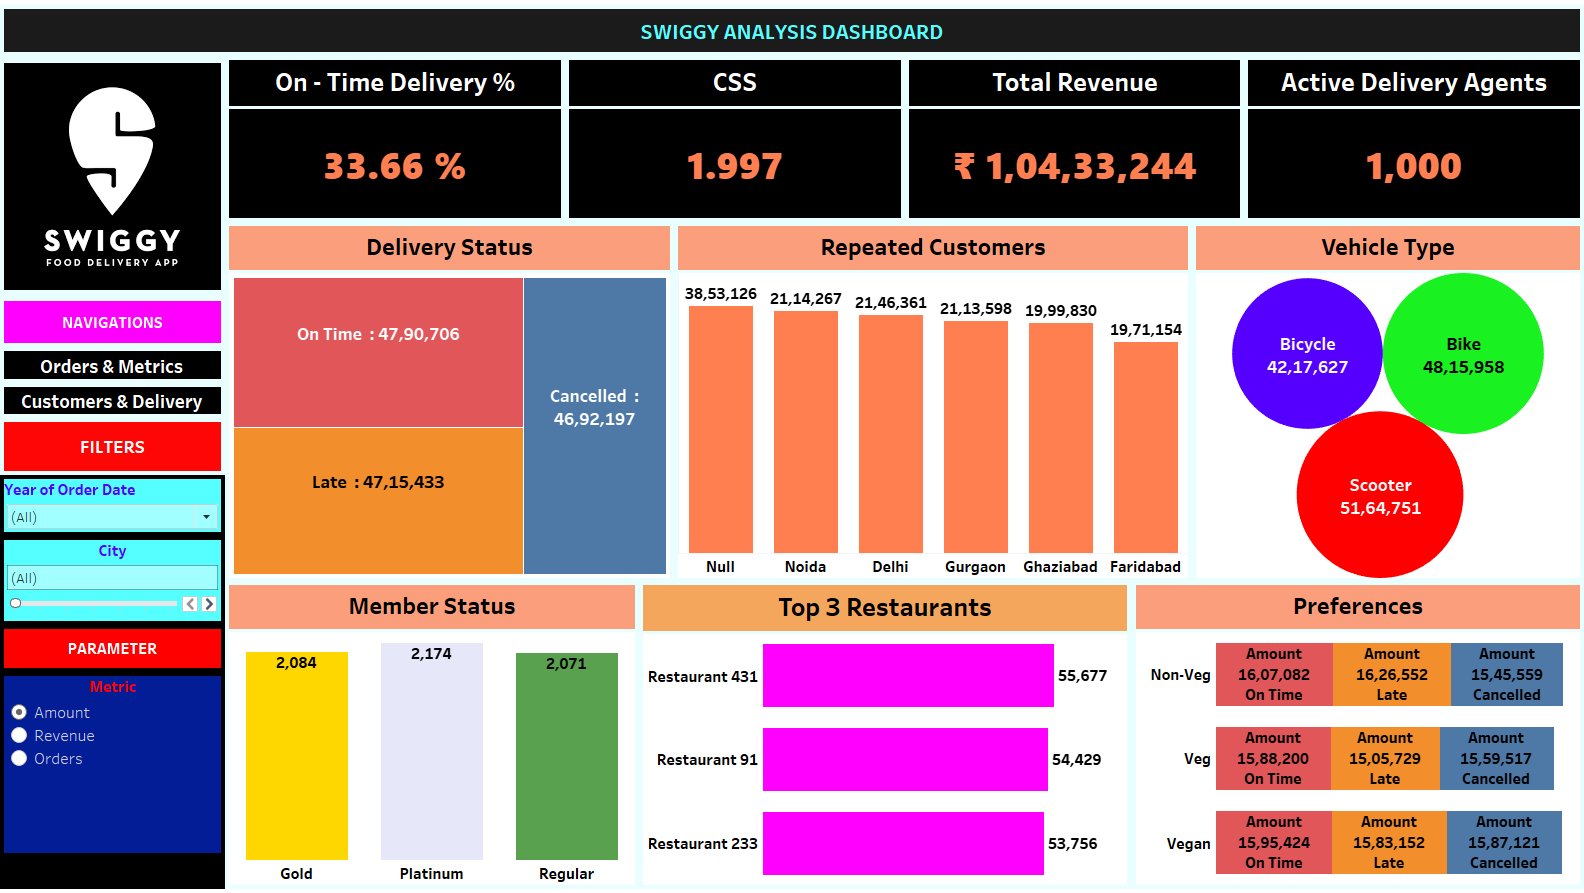

What the dashboard file says about the page in this screenshot:
{"tool":"tableau","page":{"name":"Customers & Delivery","canvas":[1600,900],"ordinal":0},"visuals":[{"type":"text","box":[8,8,1584,51]},{"type":"image","param":"Image/images.png","box":[8,59,225,241]},{"type":"worksheet","title":"KPI-6","mark":"Automatic","box":[233,59,339.8,166]},{"type":"worksheet","title":"KPI-9","mark":"Automatic","box":[572.8,59,339.7,166]},{"type":"worksheet","title":"KPI-2","mark":"Automatic","box":[912.5,59,339.7,166]},{"type":"worksheet","title":"KPI-10","mark":"Automatic","box":[1252.3,59,339.7,166]},{"type":"worksheet","title":"Delivery_Status","mark":"Automatic","box":[233,225,449,359.5]},{"type":"worksheet","title":"Repeated_Customers","mark":"Automatic","rows":["Calculation_966866611392118789"],"cols":["City"],"box":[682,225,518,359.5]},{"type":"worksheet","title":"vehicle_type","mark":"Circle","box":[1200,225,392,359.5]},{"type":"text","box":[8,300,225,50]},{"type":"dashboard-object","box":[8,350,225,36]},{"type":"dashboard-object","box":[8,386,225,35]},{"type":"text","box":[8,421,225,57]},{"type":"filter","title":"Delivery_Status","param":"[federated.0m7adrq1ou8d6t1earo5l1i4qmw8].[yr:Order Date:ok]","box":[8,478,225,61]},{"type":"filter","title":"Delivery_Status","param":"[federated.0m7adrq1ou8d6t1earo5l1i4qmw8].[none:City:nk]","box":[8,539,225,89]},{"type":"worksheet","title":"Membership_Status","mark":"Automatic","rows":["Calculation_966866611391627267"],"cols":["MembershipStatus"],"box":[233,584.5,414,307.5]},{"type":"worksheet","title":"KPI-7","mark":"Automatic","rows":["RestaurantName"],"cols":["Calculation_328199889319661568"],"box":[647,584.5,492.5,307.5]},{"type":"worksheet","title":"preferences","mark":"Automatic","rows":["Preferences"],"cols":["Calculation_328199889319661568"],"box":[1139.5,584.5,452.5,307.5]},{"type":"text","box":[8,628,225,47]},{"type":"parameter","param":"[Parameters].[Parameter 1]","box":[8,675,225,185]}]}

Visuals, with their boxes in screenshot pixels (x1, y1, x2, y2), scaled from the page's 1600x900 canvas onto the 1584x893 screenshot:
text: (x1=8, y1=8, x2=1576, y2=59)
image: (x1=8, y1=59, x2=231, y2=298)
"KPI-6" worksheet: (x1=231, y1=59, x2=567, y2=223)
"KPI-9" worksheet: (x1=567, y1=59, x2=903, y2=223)
"KPI-2" worksheet: (x1=903, y1=59, x2=1240, y2=223)
"KPI-10" worksheet: (x1=1240, y1=59, x2=1576, y2=223)
"Delivery_Status" worksheet: (x1=231, y1=223, x2=675, y2=580)
"Repeated_Customers" worksheet: (x1=675, y1=223, x2=1188, y2=580)
"vehicle_type" worksheet (Circle marks): (x1=1188, y1=223, x2=1576, y2=580)
text: (x1=8, y1=298, x2=231, y2=347)
dashboard-object: (x1=8, y1=347, x2=231, y2=383)
dashboard-object: (x1=8, y1=383, x2=231, y2=418)
text: (x1=8, y1=418, x2=231, y2=474)
"Delivery_Status" filter: (x1=8, y1=474, x2=231, y2=535)
"Delivery_Status" filter: (x1=8, y1=535, x2=231, y2=623)
"Membership_Status" worksheet: (x1=231, y1=580, x2=641, y2=885)
"KPI-7" worksheet: (x1=641, y1=580, x2=1128, y2=885)
"preferences" worksheet: (x1=1128, y1=580, x2=1576, y2=885)
text: (x1=8, y1=623, x2=231, y2=670)
parameter: (x1=8, y1=670, x2=231, y2=853)
